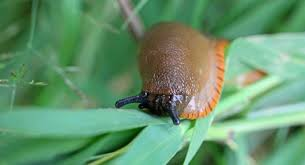slug: (125, 35, 228, 125)
